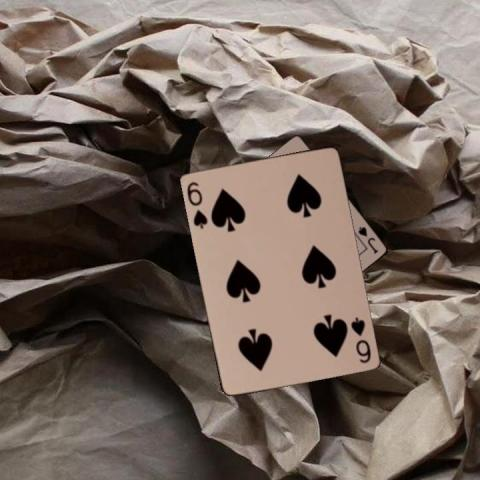6s: (183, 178, 209, 230), (347, 313, 372, 365)
Js: (355, 224, 380, 256)
